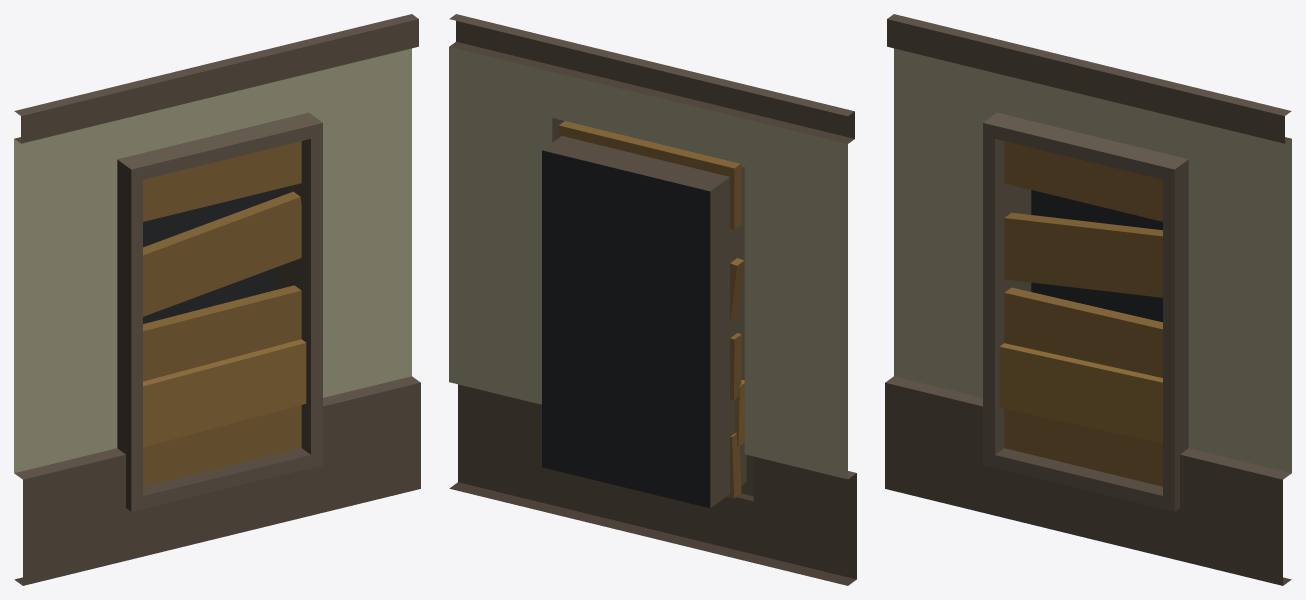
File: AI_Env_Wall_Bar_Window.fbx
The picture shows the model from 3 angles, left to right: view 1: azimuth 30°, elevation 25°; view 2: azimuth 150°, elevation 25°; view 3: azimuth 330°, elevation 25°; orthographic projection.
Parts seen in each view (by area): view 1: AI_Env_Wall_Bar_Window; view 2: AI_Env_Wall_Bar_Window; view 3: AI_Env_Wall_Bar_Window.
Boxes of the visible parts, x1,y1,x2,y2 form: AI_Env_Wall_Bar_Window: (14,14,420,585); AI_Env_Wall_Bar_Window: (449,14,856,585); AI_Env_Wall_Bar_Window: (885,14,1291,585).
Size of the model in its own units: 5 by 5.62 by 0.7934.
